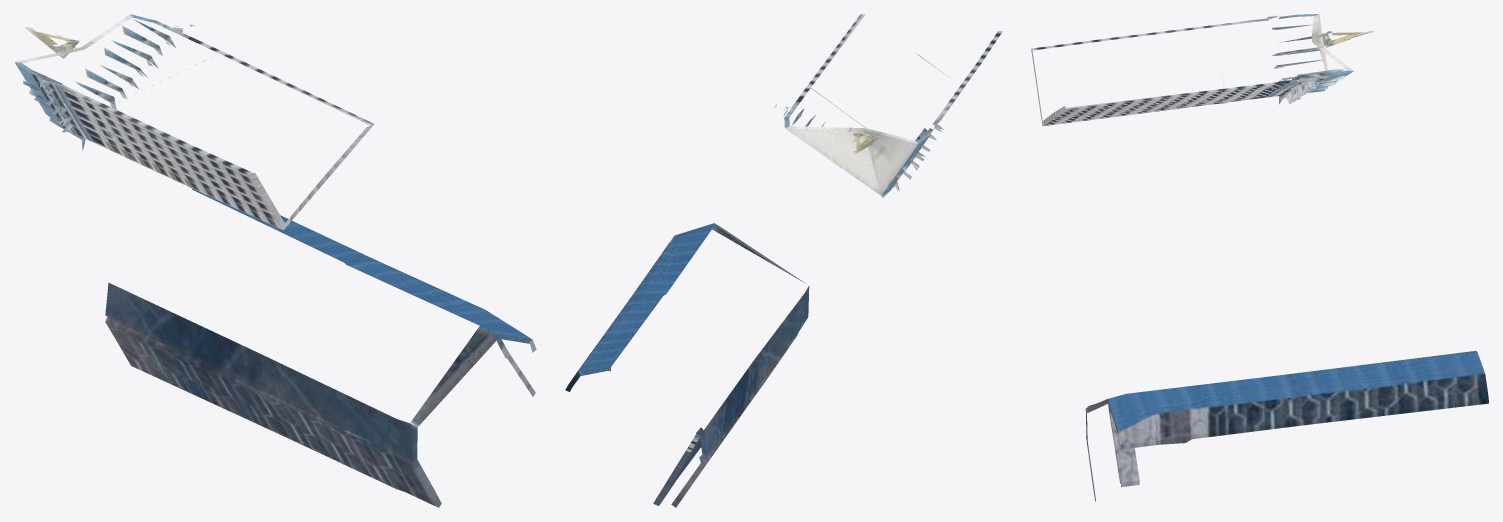
The model's file is tile_069.glb.
The picture shows the model from 3 angles, left to right: view 1: azimuth 30°, elevation 25°; view 2: azimuth 150°, elevation 25°; view 3: azimuth 270°, elevation 25°; orthographic projection. The views are drawn at different scales.
Bounding box in the file's own units: 78.02 × 77.4 × 87.91.
Materials: 1 (1 with a texture image).
